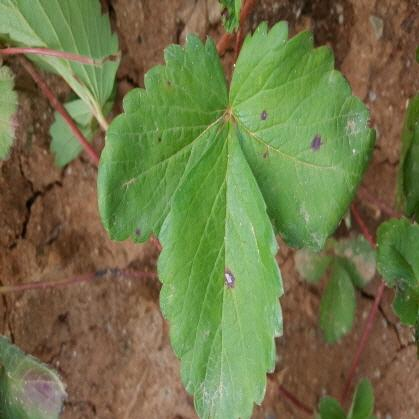Leaf Spot: (156, 111, 285, 418), (229, 18, 376, 254), (96, 31, 228, 243), (293, 236, 339, 283)
